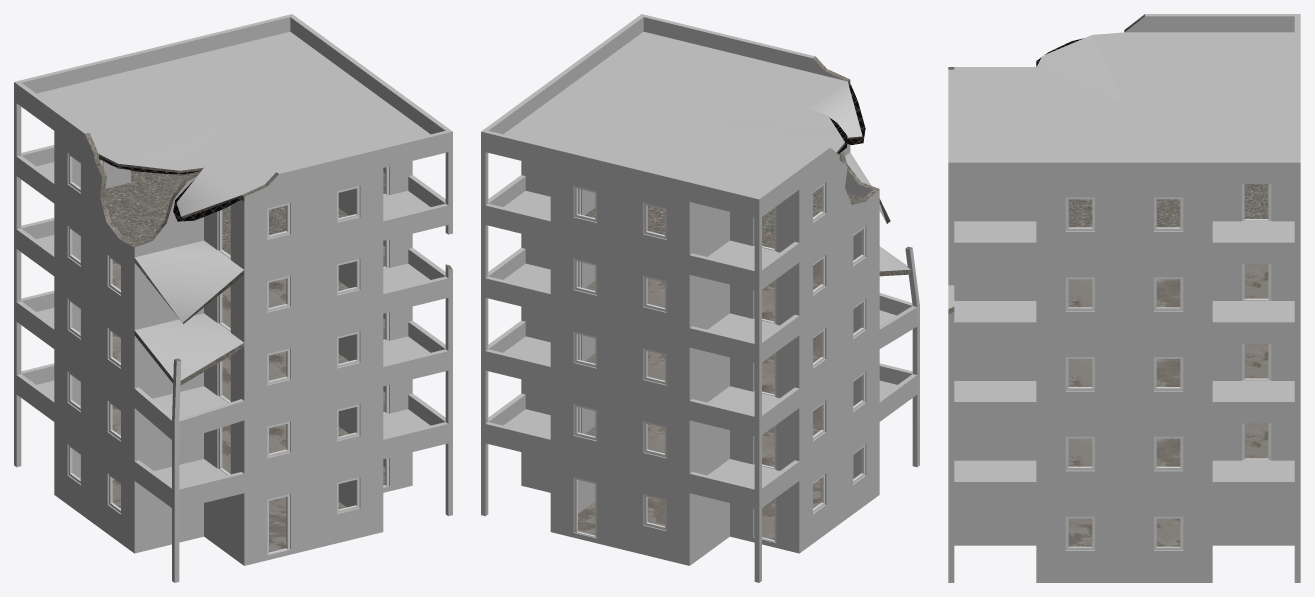
Rendered from Tower_Destroyed.fbx.
3 views of the same model, side by side, from view 1: azimuth 30°, elevation 25°; view 2: azimuth 150°, elevation 25°; view 3: azimuth 270°, elevation 25° (orthographic). The views are drawn at different scales.
Parts seen in each view (by area): view 1: Walls, Floors_Exterior, Pillars, Windows, Floor_Center, Floors_Interior_Bottom, Broken_Concrete, Floor_Ground, Rebar; view 2: Walls, Floors_Exterior, Pillars, Windows, Floors_Interior_Bottom, Floor_Ground, Floor_Center, Broken_Concrete; view 3: Walls, Floors_Exterior, Floors_Interior_Bottom, Pillars, Windows, Floor_Center, Floor_Ground.
Boxes of the visible parts, bbox=[...] form: Walls: bbox=[16, 15, 449, 565]; Floors_Exterior: bbox=[36, 31, 430, 486]; Pillars: bbox=[14, 14, 452, 582]; Windows: bbox=[68, 154, 388, 554]; Floor_Center: bbox=[104, 170, 385, 254]; Floors_Interior_Bottom: bbox=[112, 245, 385, 473]; Broken_Concrete: bbox=[85, 132, 452, 385]; Floor_Ground: bbox=[112, 466, 385, 552]; Rebar: bbox=[100, 157, 241, 221]; Walls: bbox=[484, 15, 917, 565]; Floors_Exterior: bbox=[503, 31, 910, 486]; Pillars: bbox=[481, 14, 919, 582]; Windows: bbox=[574, 183, 865, 542]; Floors_Interior_Bottom: bbox=[585, 260, 821, 466]; Floor_Ground: bbox=[578, 480, 821, 539]; Floor_Center: bbox=[585, 187, 863, 248]; Broken_Concrete: bbox=[813, 56, 912, 276]; Walls: bbox=[948, 14, 1300, 582]; Floors_Exterior: bbox=[954, 32, 1294, 479]; Floors_Interior_Bottom: bbox=[1068, 264, 1268, 466]; Pillars: bbox=[948, 14, 1300, 582]; Windows: bbox=[1065, 184, 1271, 550]; Floor_Center: bbox=[1068, 184, 1268, 227]; Floor_Ground: bbox=[1068, 518, 1180, 546].
Size of the model in its own units: 1200 by 1580 by 1200.
